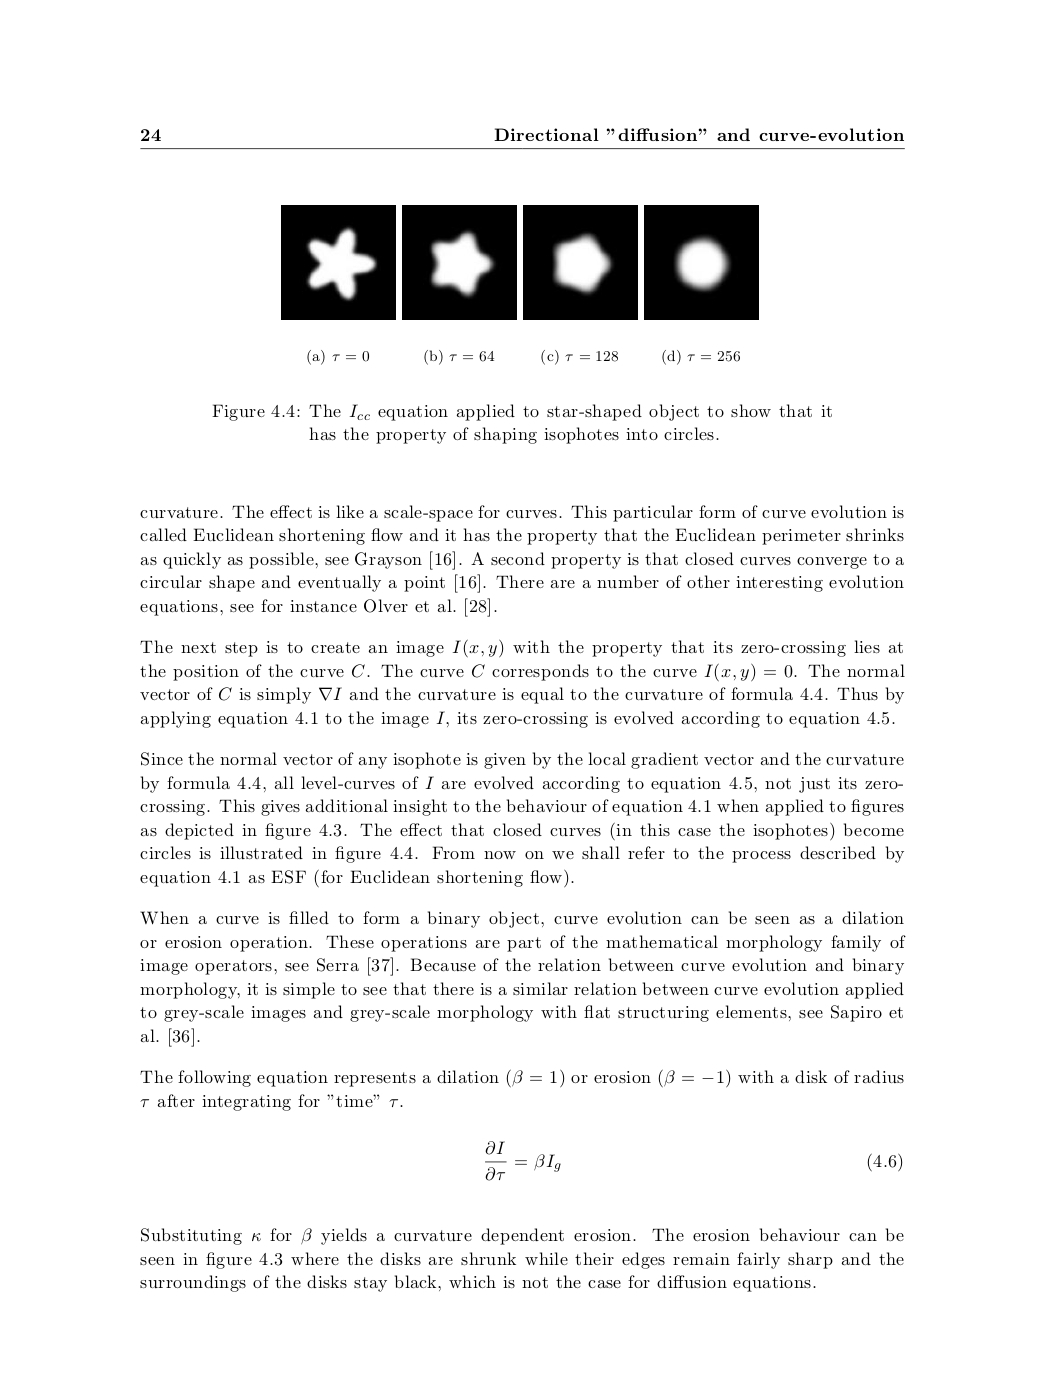figure: (281, 205, 395, 319), (402, 205, 516, 319), (644, 205, 758, 319), (523, 205, 637, 318)
formula: (485, 1140, 902, 1181)
